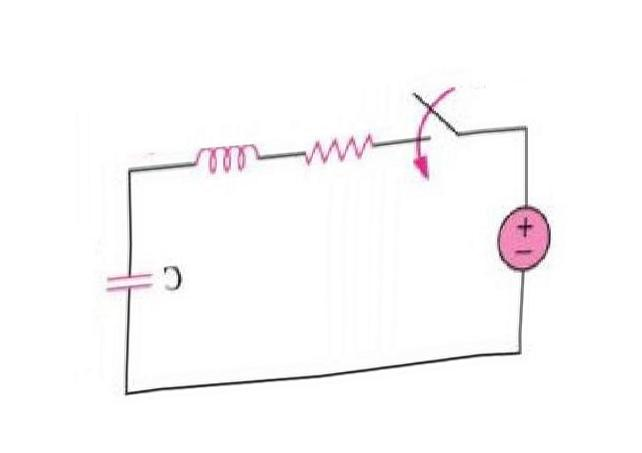Battery: (468, 194, 566, 296)
